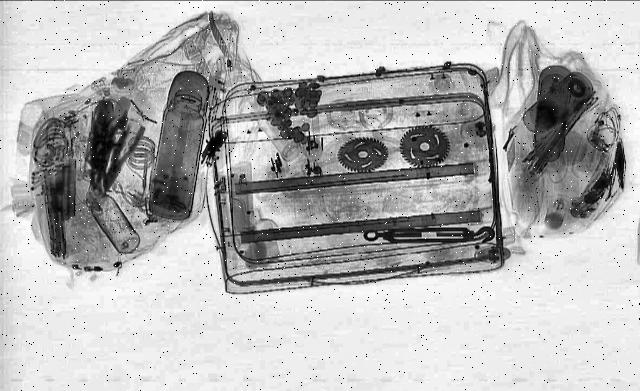Pliers: (92, 124, 148, 190)
